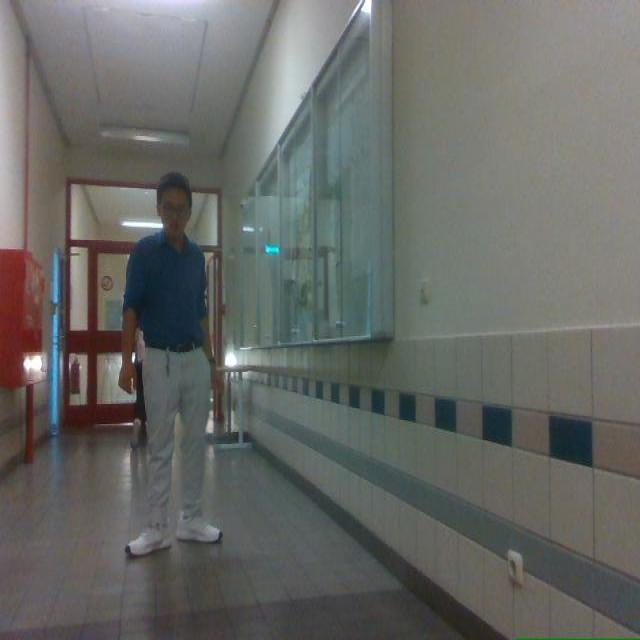humans: (119, 174, 221, 555)
